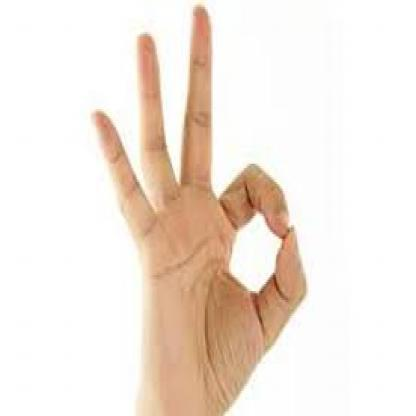ok: (88, 0, 310, 416)
